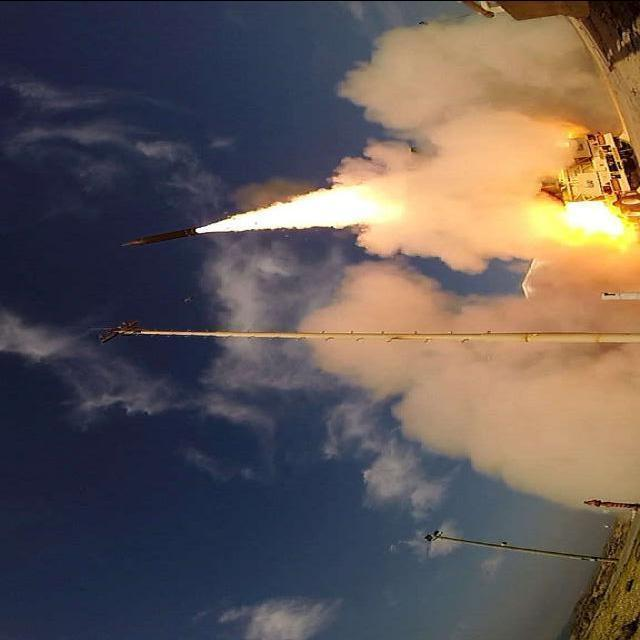missile: (116, 213, 207, 264)
